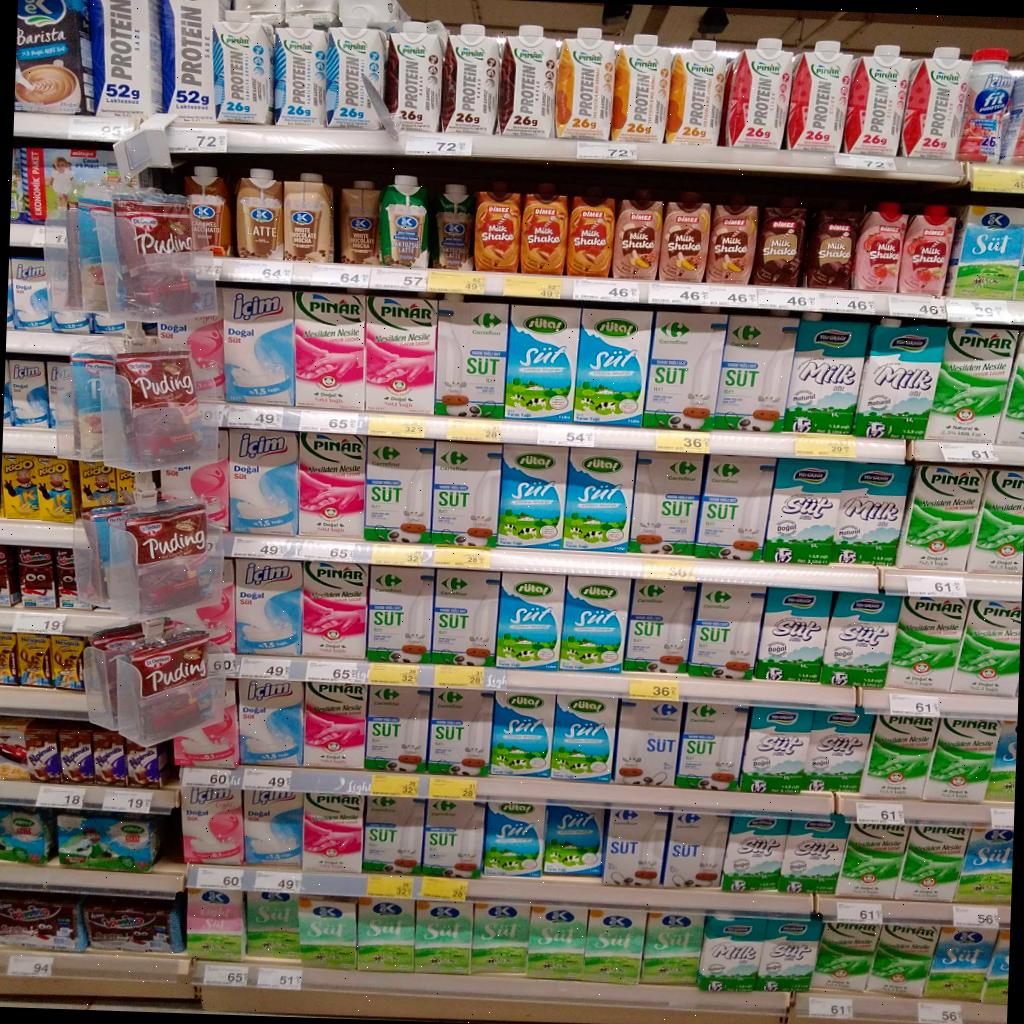price_tag: (67, 117, 136, 142), (167, 126, 228, 153), (231, 535, 299, 559), (299, 409, 365, 433), (971, 164, 1023, 194), (794, 434, 856, 459), (573, 280, 640, 303), (405, 135, 472, 157), (758, 287, 819, 311), (310, 264, 371, 288), (232, 260, 293, 284), (504, 275, 561, 300), (227, 405, 286, 429), (906, 575, 967, 598), (537, 423, 595, 447), (428, 271, 486, 295), (370, 544, 433, 566), (306, 660, 368, 682), (367, 415, 426, 438), (890, 295, 946, 319), (649, 283, 707, 306), (948, 299, 1008, 321), (299, 539, 354, 563), (371, 268, 428, 291), (889, 692, 941, 717), (446, 420, 502, 443), (822, 290, 875, 314), (655, 430, 710, 453), (13, 612, 68, 635), (434, 548, 491, 570), (419, 876, 467, 902), (704, 285, 758, 308), (102, 789, 151, 814), (643, 559, 696, 582), (577, 141, 637, 161), (242, 767, 292, 791), (36, 786, 86, 810), (940, 443, 999, 463), (7, 954, 54, 979), (628, 678, 679, 701), (243, 657, 291, 681), (371, 773, 419, 797), (369, 663, 419, 686), (434, 665, 484, 688), (855, 802, 905, 825), (194, 867, 244, 890), (366, 875, 413, 899), (953, 905, 1000, 929), (429, 777, 477, 800), (836, 154, 896, 172), (837, 901, 883, 924), (254, 871, 302, 893), (810, 996, 853, 1020), (181, 768, 232, 788), (258, 967, 302, 990), (203, 964, 248, 986), (917, 1002, 963, 1023), (205, 653, 239, 676), (990, 807, 1014, 829), (30, 226, 46, 247)
product: (117, 629, 218, 745), (924, 325, 1016, 442), (856, 324, 944, 438), (643, 311, 727, 429), (714, 313, 797, 431), (784, 319, 868, 433), (896, 464, 983, 570), (574, 308, 652, 426), (14, 0, 93, 113), (89, 0, 162, 117), (365, 293, 436, 412), (504, 306, 578, 420), (221, 287, 293, 404), (695, 455, 775, 560), (434, 302, 507, 417), (764, 459, 843, 564), (293, 291, 363, 409), (161, 0, 229, 120), (832, 462, 910, 564), (628, 451, 704, 555), (900, 47, 969, 159), (885, 596, 966, 691), (785, 40, 853, 152), (725, 38, 793, 149), (820, 592, 901, 685), (563, 449, 636, 551), (843, 45, 910, 156), (754, 588, 833, 682), (228, 429, 298, 534), (432, 440, 501, 546), (946, 205, 1024, 298), (689, 584, 765, 679), (364, 437, 432, 543), (497, 444, 566, 548), (325, 13, 386, 130), (622, 579, 696, 673), (298, 432, 363, 538), (610, 33, 672, 143), (951, 599, 1021, 696), (365, 565, 434, 663), (555, 28, 615, 140), (213, 11, 272, 124), (859, 716, 939, 799), (495, 573, 564, 669), (559, 576, 628, 672), (665, 40, 728, 145), (234, 558, 302, 654), (498, 25, 556, 137), (68, 178, 116, 313), (923, 717, 999, 802), (957, 48, 1013, 163), (385, 21, 442, 133), (441, 24, 499, 134), (829, 823, 910, 900), (433, 568, 497, 665), (965, 468, 1024, 573), (740, 707, 812, 793), (302, 561, 366, 657), (57, 812, 159, 872), (676, 704, 748, 788), (23, 147, 115, 212), (273, 15, 326, 127), (615, 699, 683, 786), (549, 695, 617, 781), (238, 678, 303, 766), (894, 826, 969, 902), (172, 681, 238, 767), (428, 688, 492, 775), (777, 815, 849, 892), (805, 711, 873, 792), (364, 687, 429, 771), (83, 898, 184, 952), (157, 315, 224, 396), (303, 682, 366, 768), (489, 693, 554, 776), (924, 926, 996, 1000), (865, 924, 939, 996), (697, 914, 766, 991), (721, 816, 788, 892), (602, 809, 668, 886), (899, 206, 955, 296), (125, 504, 206, 566), (662, 811, 728, 887), (0, 893, 86, 951), (755, 917, 822, 991), (422, 799, 484, 878), (181, 786, 243, 865), (852, 202, 907, 291), (302, 793, 363, 872), (362, 796, 424, 873), (810, 922, 880, 990), (640, 911, 703, 986), (483, 801, 545, 877), (703, 197, 757, 284), (543, 804, 607, 877), (583, 908, 644, 984), (658, 192, 709, 282), (244, 789, 302, 867), (803, 209, 860, 288), (72, 352, 113, 460), (380, 175, 428, 267), (955, 828, 1013, 904), (751, 206, 806, 286), (612, 191, 662, 279), (527, 905, 586, 979), (473, 182, 521, 272), (184, 166, 232, 256), (298, 896, 356, 970), (114, 198, 190, 254), (187, 887, 245, 960), (520, 184, 567, 274), (566, 189, 614, 277), (237, 169, 283, 260), (284, 175, 332, 262), (414, 901, 471, 974), (357, 898, 413, 972), (470, 903, 529, 973), (117, 354, 193, 406), (246, 891, 298, 958), (434, 183, 474, 269), (340, 180, 380, 263), (0, 807, 55, 864), (33, 457, 78, 522), (11, 258, 51, 331), (11, 258, 51, 330), (0, 454, 40, 519), (984, 720, 1016, 801), (10, 360, 49, 426), (18, 546, 57, 607), (1000, 71, 1024, 165), (55, 549, 90, 609), (91, 728, 127, 785), (58, 726, 94, 783), (26, 723, 61, 781), (16, 632, 51, 686), (79, 461, 119, 508), (127, 740, 167, 787), (51, 636, 86, 689), (0, 716, 28, 778), (48, 361, 73, 430), (0, 544, 20, 606), (0, 632, 18, 685), (113, 468, 134, 503)
